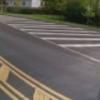crosswalks: (0, 16, 100, 47)
